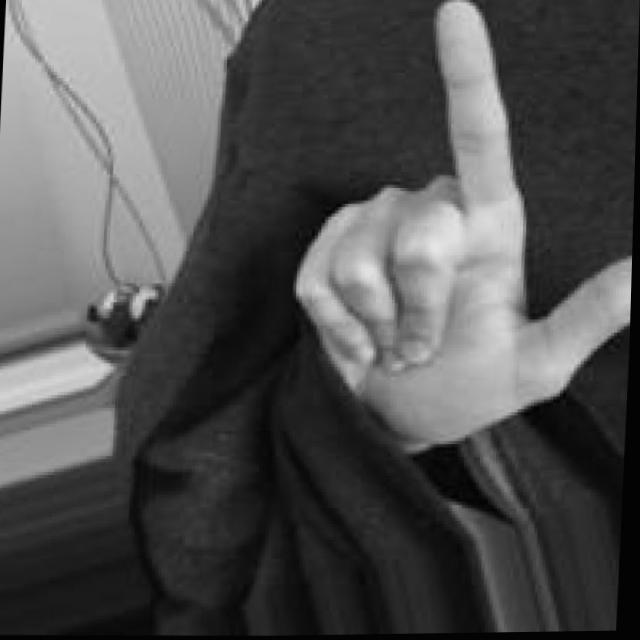L: (281, 0, 640, 462)
